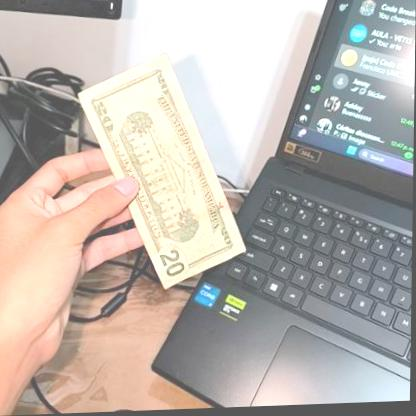twenty-back: (77, 52, 249, 293)
